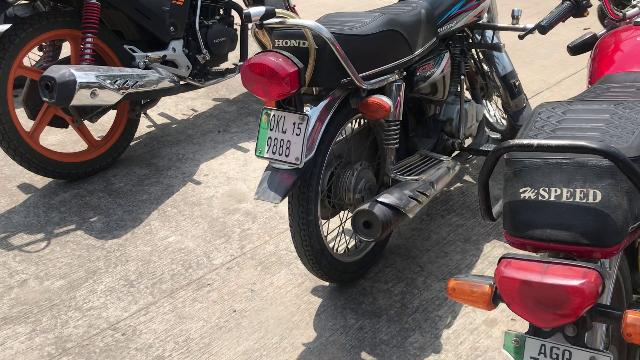plate: (251, 106, 309, 166)
